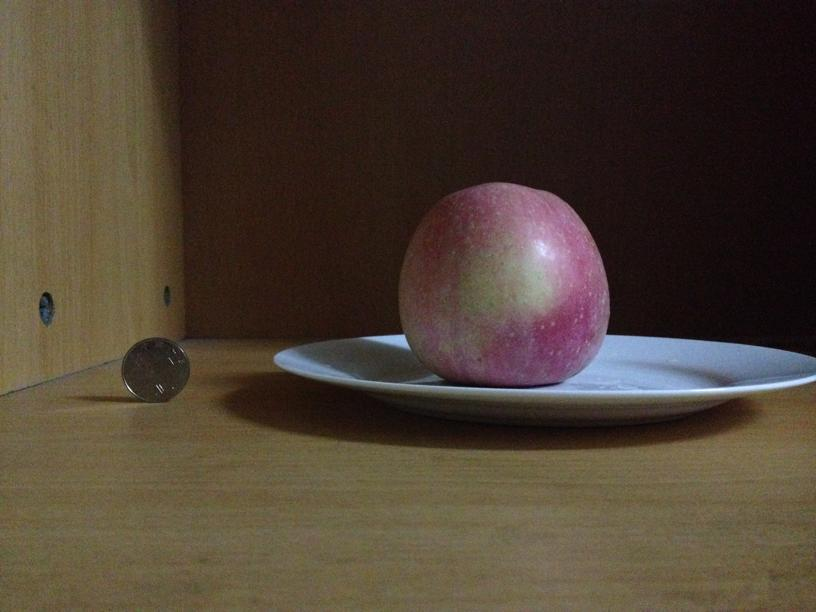apple: (404, 182, 611, 386)
coin: (123, 337, 190, 402)
